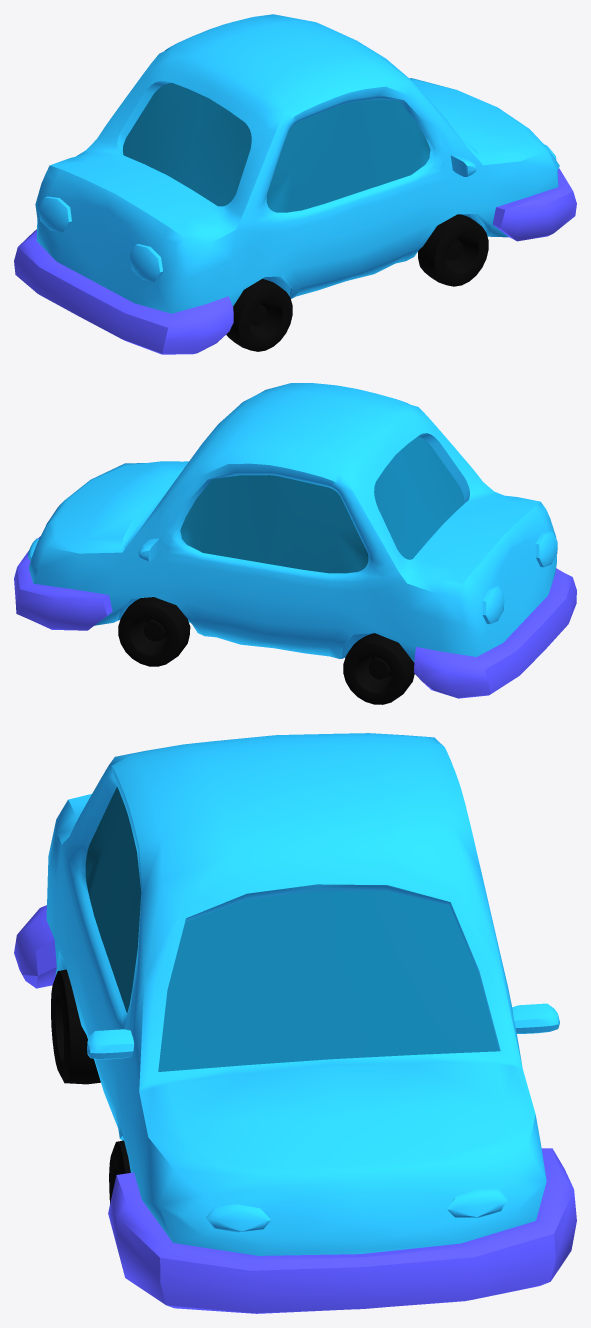
The model's file is Car.fbx.
3 views of the same model, one above another, from view 1: azimuth 30°, elevation 25°; view 2: azimuth 150°, elevation 25°; view 3: azimuth 270°, elevation 25° (orthographic). The views are drawn at different scales.
Visible parts, largest first — view 1: Cube_2, Cylinder_1, Cylinder; view 2: Cube_2, Cylinder_1, Cylinder; view 3: Cube_2, Cylinder, Cube.
Boxes of the visible parts, x1=… form: Cube_2: x1=14, y1=14, x2=576, y2=354; Cylinder_1: x1=418, y1=214, x2=488, y2=286; Cylinder: x1=226, y1=278, x2=292, y2=351; Cube_2: x1=14, y1=383, x2=576, y2=698; Cylinder_1: x1=118, y1=597, x2=190, y2=666; Cylinder: x1=343, y1=633, x2=414, y2=704; Cube_2: x1=14, y1=733, x2=576, y2=1313; Cylinder: x1=51, y1=969, x2=100, y2=1084; Cube: x1=87, y1=1003, x2=559, y2=1059.
Bounding box in the file's own units: 239 × 107 × 143.
